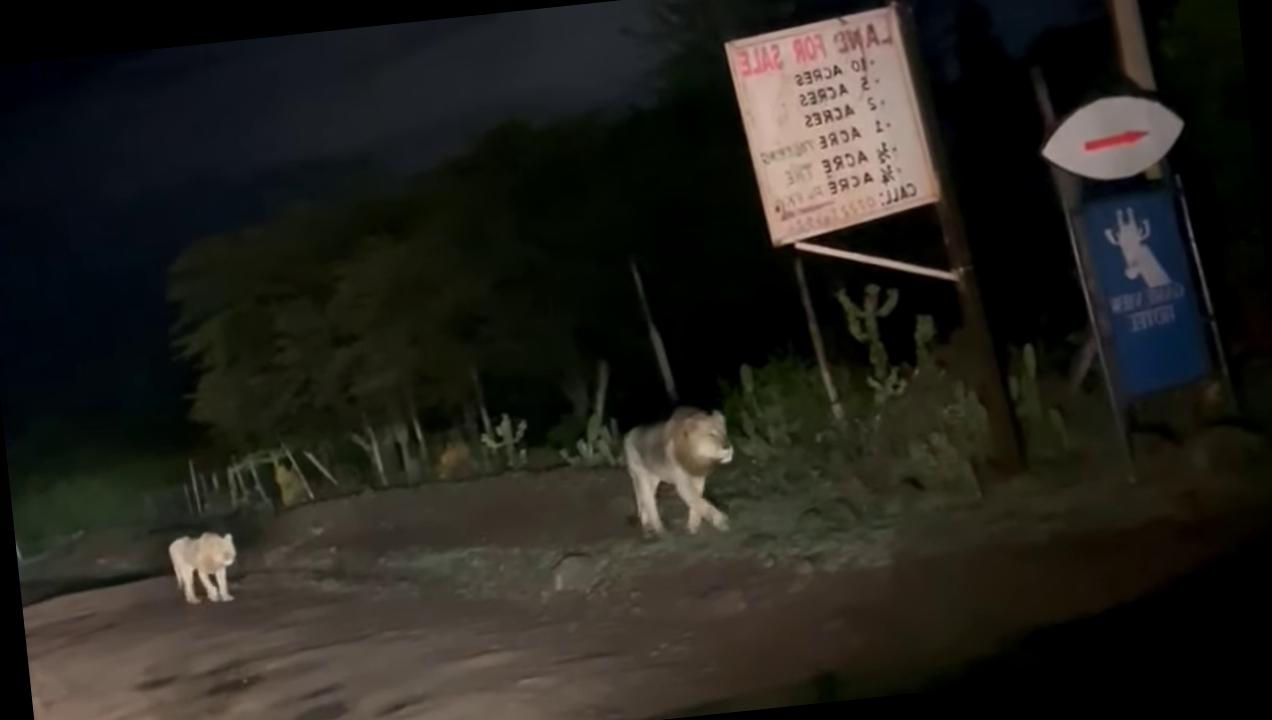lions: (595, 398, 756, 561), (139, 491, 250, 637)
